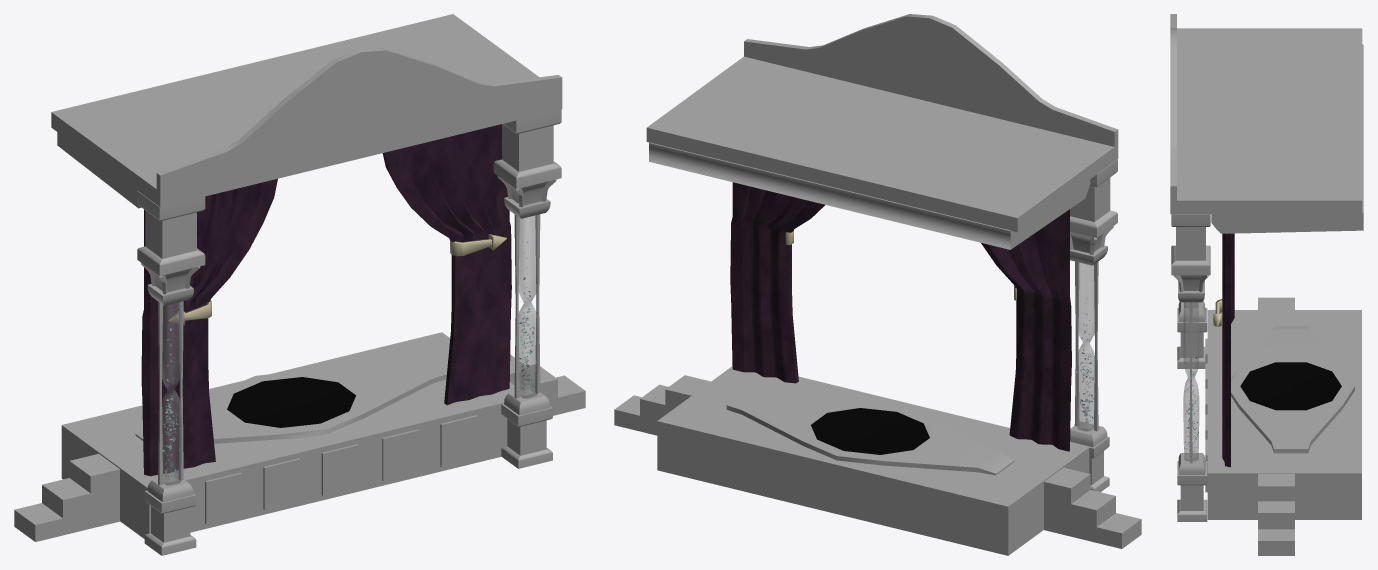
The model's file is theater_puzzle_stage.fbx.
The picture shows the model from 3 angles, left to right: view 1: azimuth 30°, elevation 25°; view 2: azimuth 150°, elevation 25°; view 3: azimuth 270°, elevation 25°; orthographic projection. The views are drawn at different scales.
Visible parts, largest first — view 1: group118; view 2: group118; view 3: group118.
Boxes of the visible parts, x1=… form: group118: x1=14, y1=14, x2=585, y2=555; group118: x1=614, y1=14, x2=1141, y2=555; group118: x1=1170, y1=14, x2=1363, y2=555.
Size of the model in its own units: 146 by 117 by 50.55.
